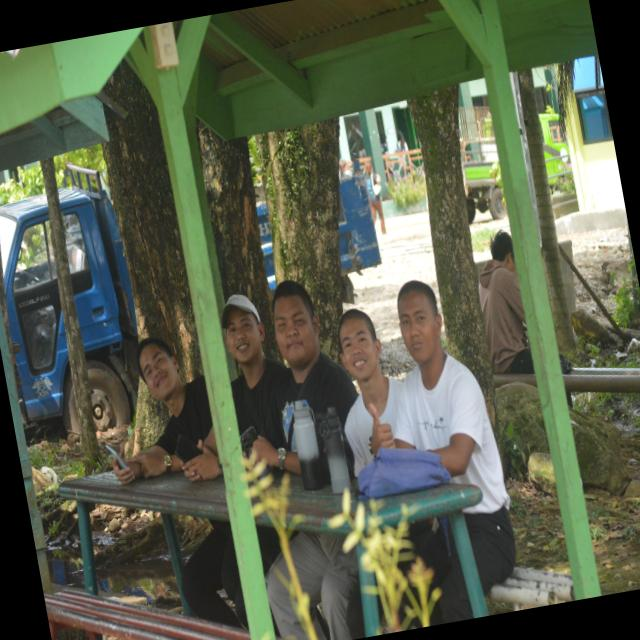person: (395, 281, 516, 593), (254, 281, 357, 474), (479, 231, 535, 374), (365, 161, 386, 234)
